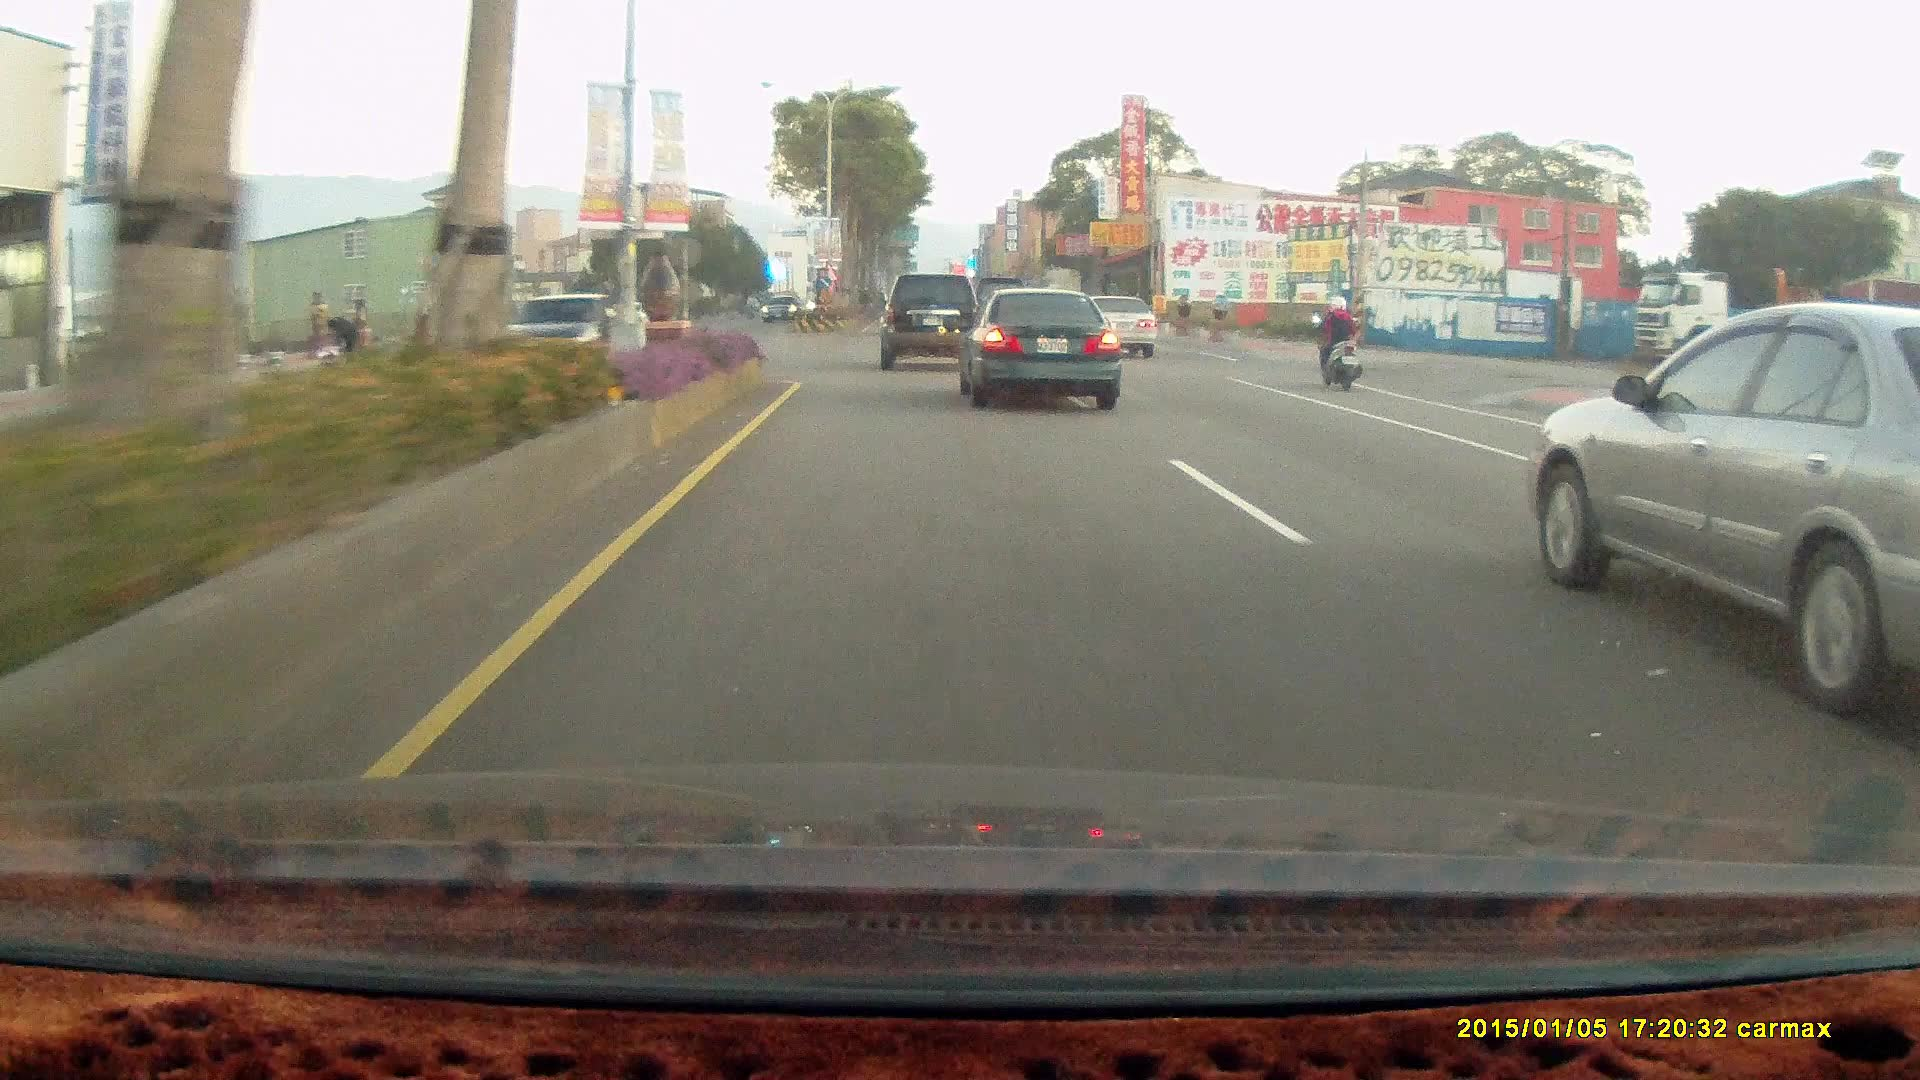pedestrian: (323, 314, 358, 364)
rider: (1304, 290, 1372, 399), (1308, 293, 1364, 390)
vehicle: (1531, 302, 1920, 720), (1630, 271, 1920, 371), (947, 290, 1113, 412), (964, 294, 1127, 415), (498, 288, 627, 376), (880, 274, 987, 374), (503, 290, 622, 379), (879, 273, 981, 369), (87, 312, 205, 384), (1076, 295, 1161, 360), (757, 297, 806, 327), (759, 293, 802, 322)
